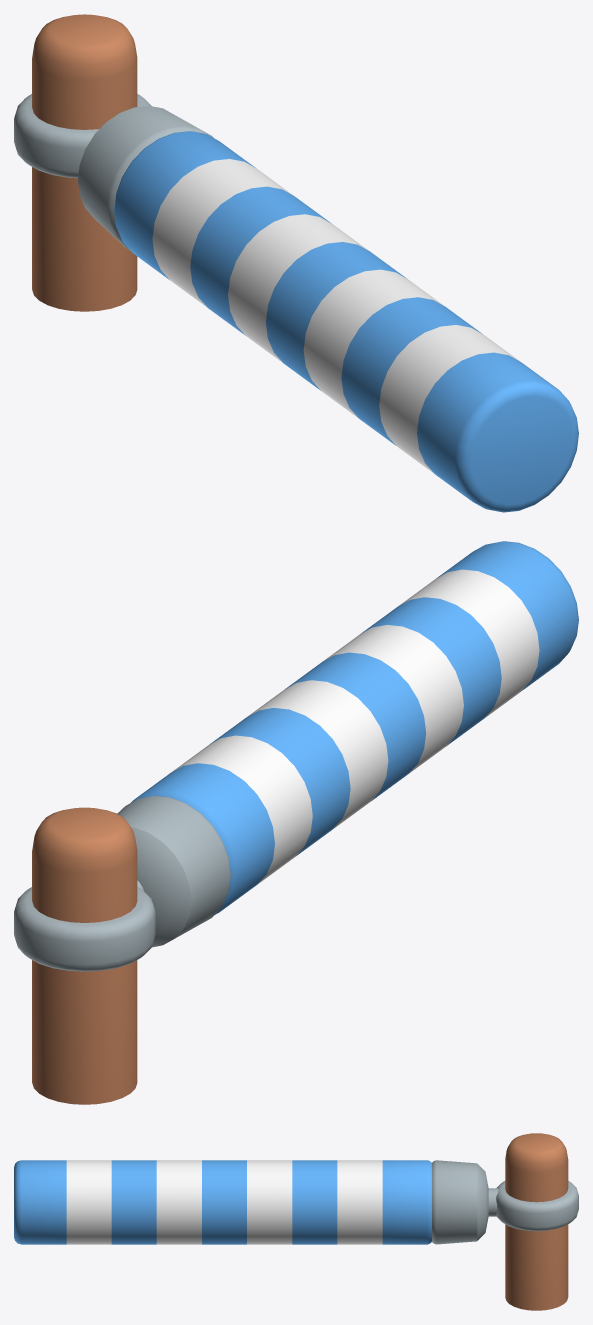
Rendered from swiperLong_teamBlue.glb.
3 renders of one model, top to bottom at view 1: azimuth 30°, elevation 25°; view 2: azimuth 150°, elevation 25°; view 3: azimuth 270°, elevation 25°, orthographic. The views are drawn at different scales.
Parts seen in each view (by area): view 1: swiperLong_teamBlue; view 2: swiperLong_teamBlue; view 3: swiperLong_teamBlue.
Part boxes in pixels (left/top/right/bottom): swiperLong_teamBlue: left=14, top=14, right=578, bottom=512; swiperLong_teamBlue: left=14, top=541, right=578, bottom=1104; swiperLong_teamBlue: left=14, top=1133, right=578, bottom=1310.
Size of the model in its own units: 0.2386 by 0.4837 by 1.59.
